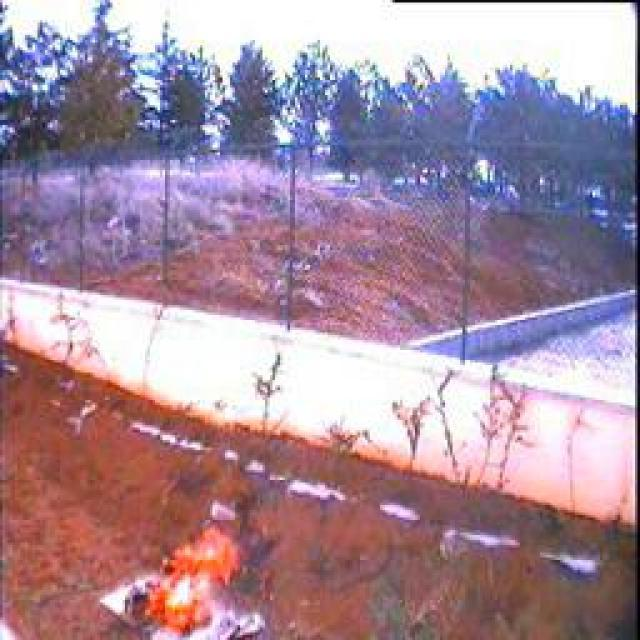Fire: (118, 525, 241, 640)
